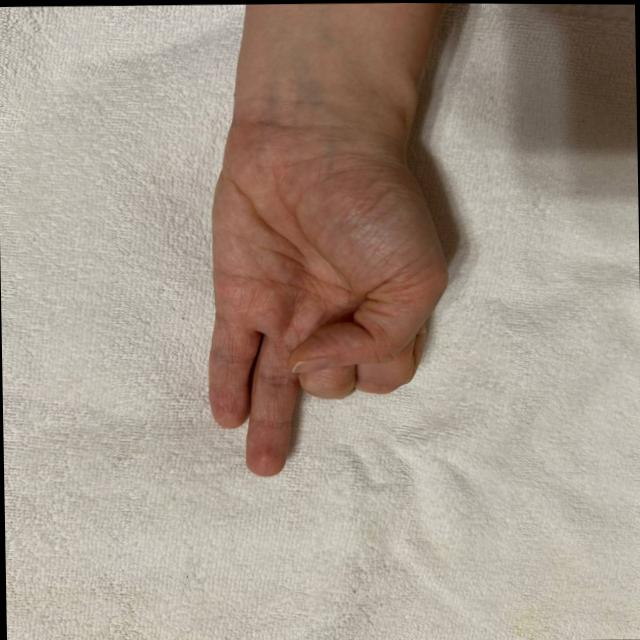i: (173, 138, 463, 509)
